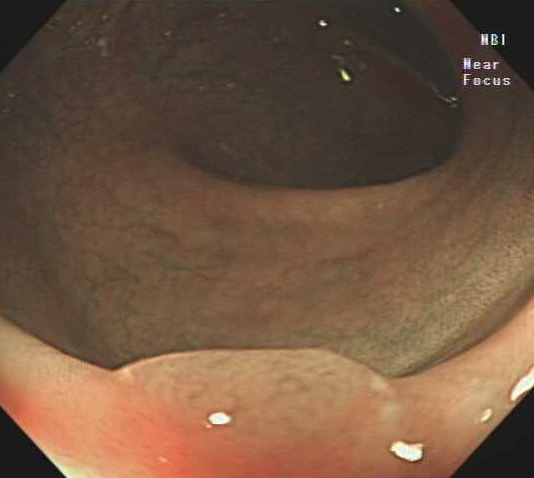others: (112, 343, 396, 462)
